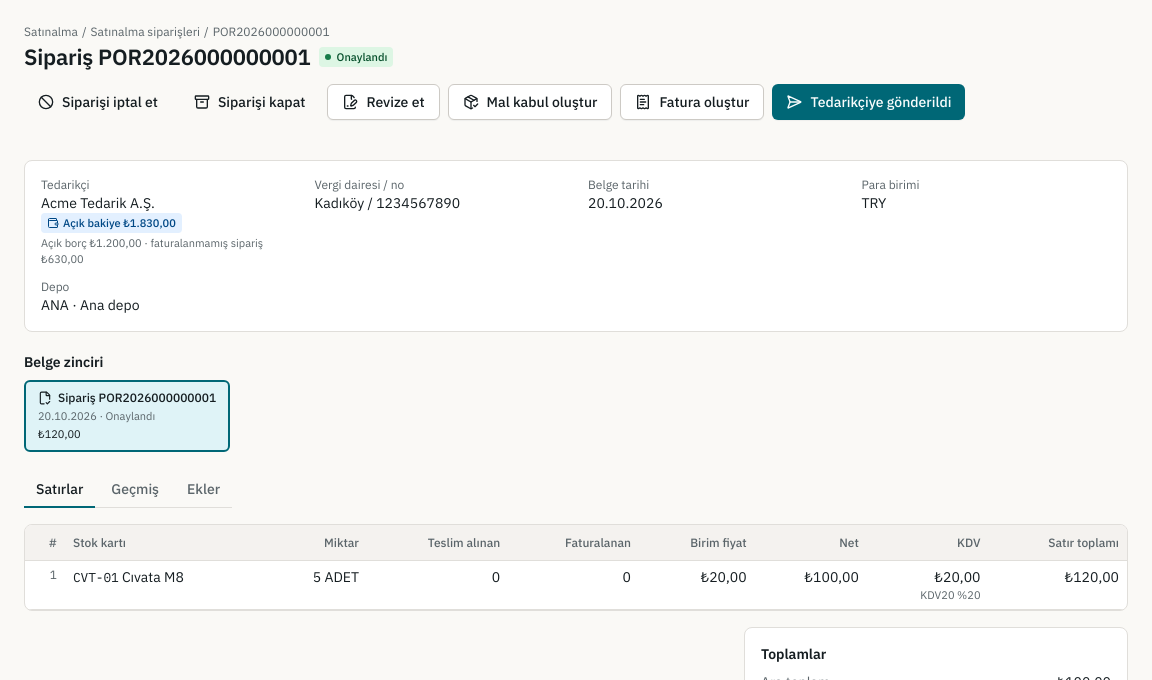
Test case: order editor and submit › revises an approved order with the full payload and version
The width and height of the screenshot is (1152, 680).
expect the heading "Sipariş POR2026000000001" is shown: met, box [24, 42, 311, 72]
Click the button "Revize et": click(383, 102) [327, 84, 440, 120]
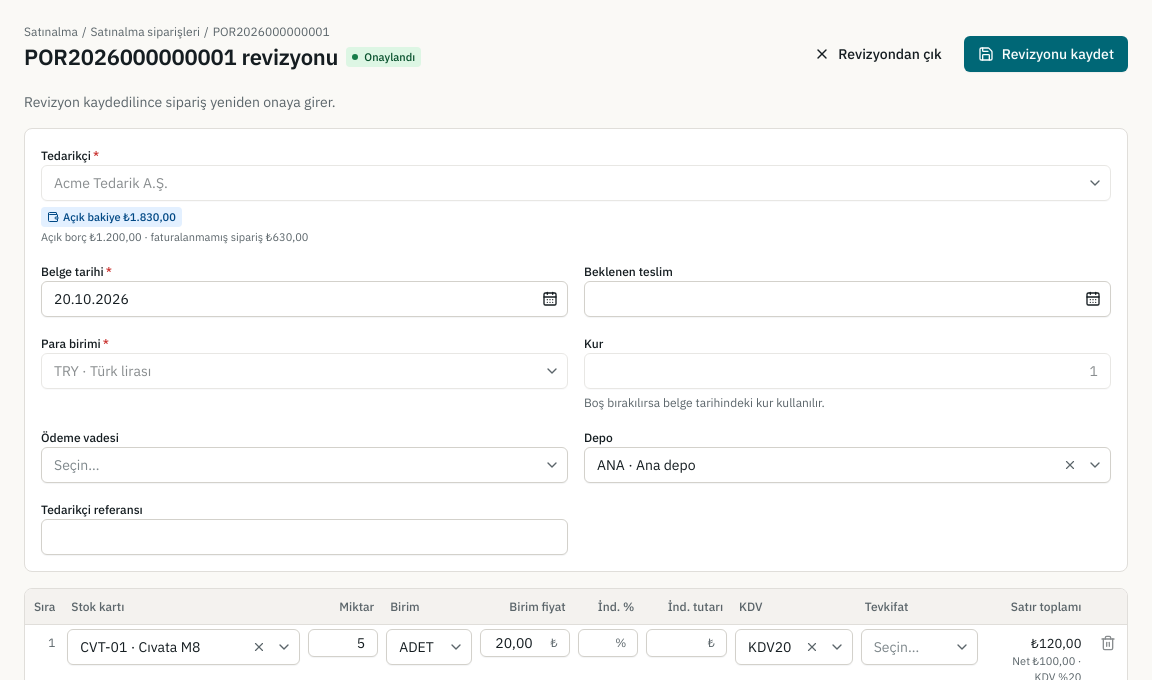
Click the field named "Miktar, 1. satır": click(343, 643) [308, 629, 378, 657]
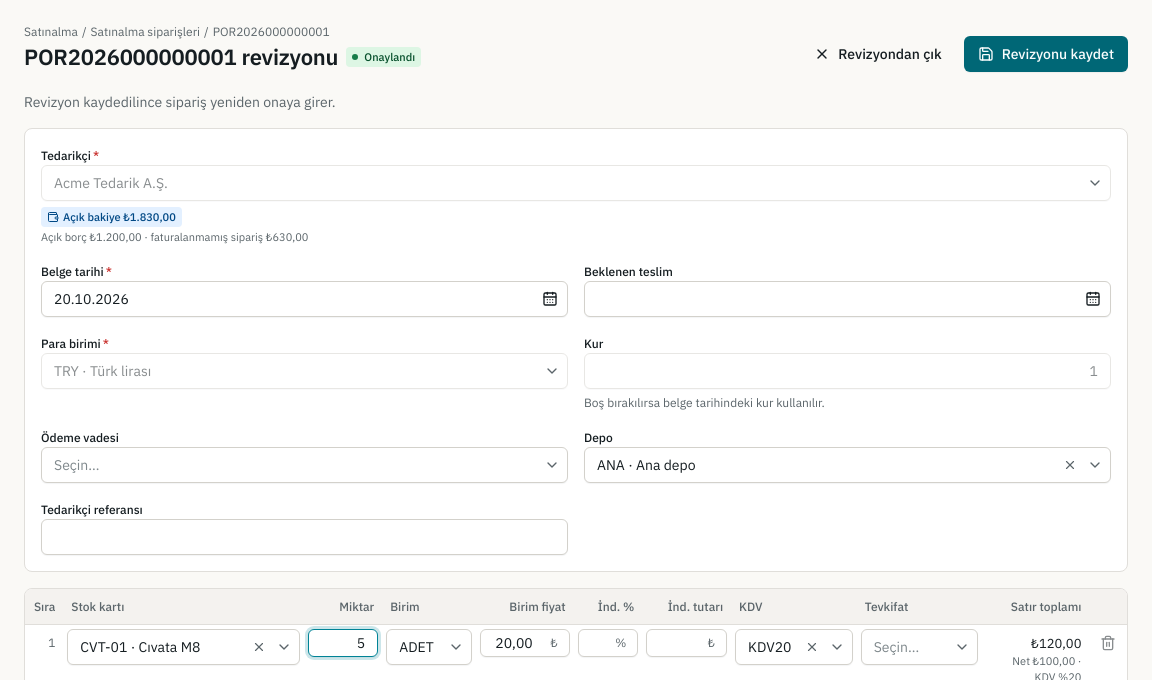
Type keys "{Control>}a{/Control}"
Type keys "6"
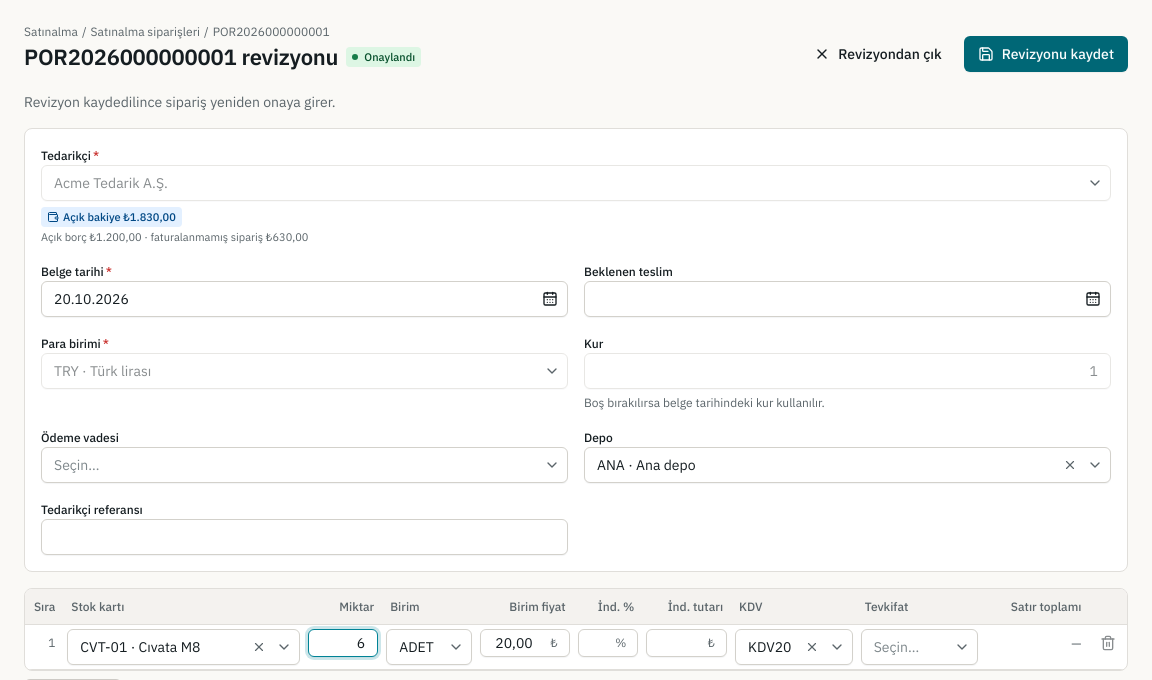
Click the button "Revizyonu kaydet": click(1046, 54) [964, 36, 1128, 72]
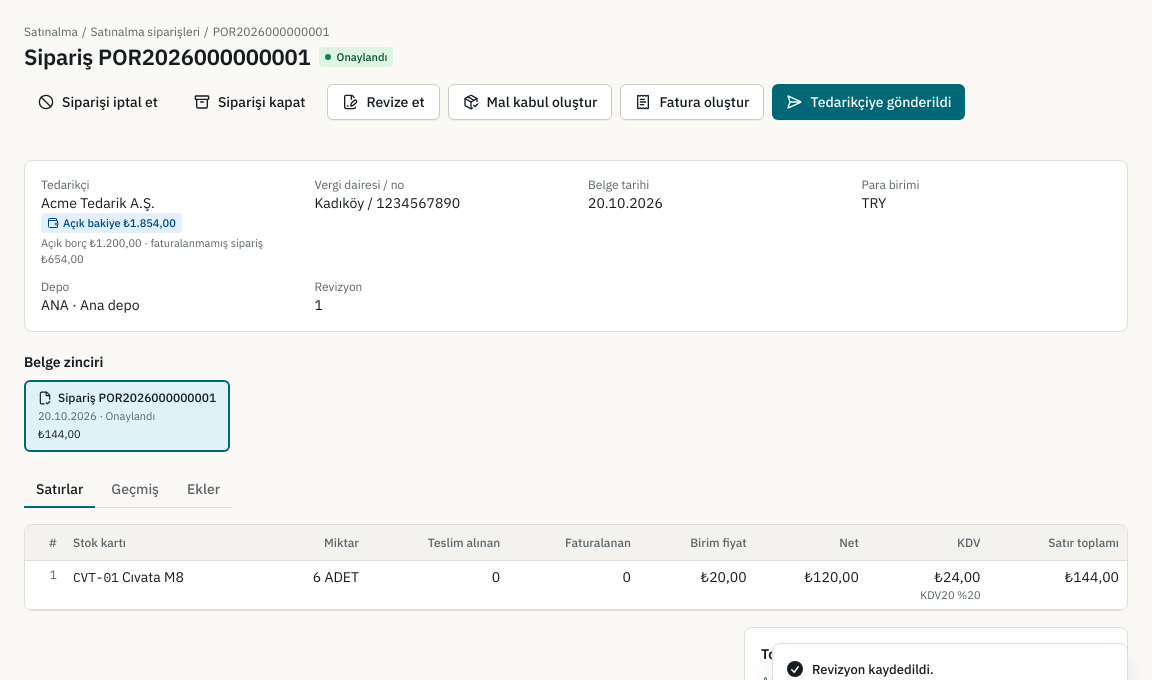
expect the heading "Sipariş POR2026000000001" is shown: met, box [24, 42, 311, 72]
